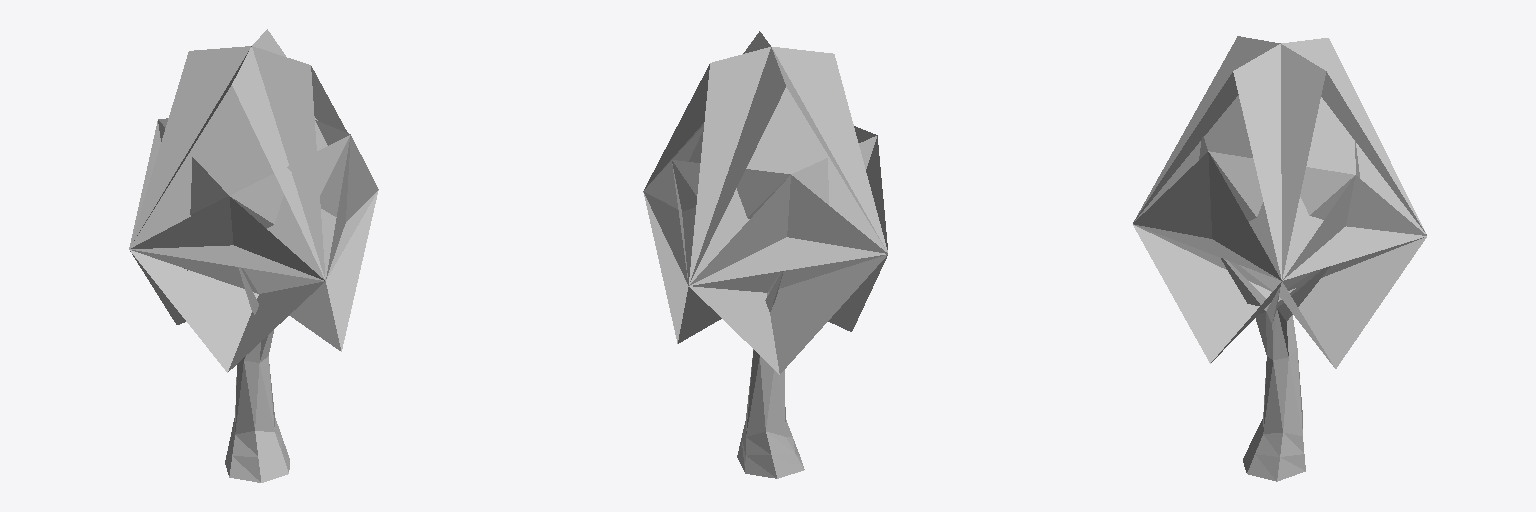
The model's file is redridgeTree.obj.
3 renders of one model, left to right at view 1: azimuth 30°, elevation 25°; view 2: azimuth 150°, elevation 25°; view 3: azimuth 270°, elevation 25°, orthographic.
Visible parts, largest first — view 1: world/azeroth/redridge/passivedoodads/trees/redridgetreecanopy04; view 2: world/azeroth/redridge/passivedoodads/trees/redridgetreecanopy04; view 3: world/azeroth/redridge/passivedoodads/trees/redridgetreecanopy04.
Boxes of the visible parts, x1=… form: world/azeroth/redridge/passivedoodads/trees/redridgetreecanopy04: x1=129, y1=29, x2=378, y2=482; world/azeroth/redridge/passivedoodads/trees/redridgetreecanopy04: x1=643, y1=31, x2=887, y2=478; world/azeroth/redridge/passivedoodads/trees/redridgetreecanopy04: x1=1133, y1=36, x2=1426, y2=481.
Bounding box in the file's own units: 50.97 × 82.9 × 52.67.